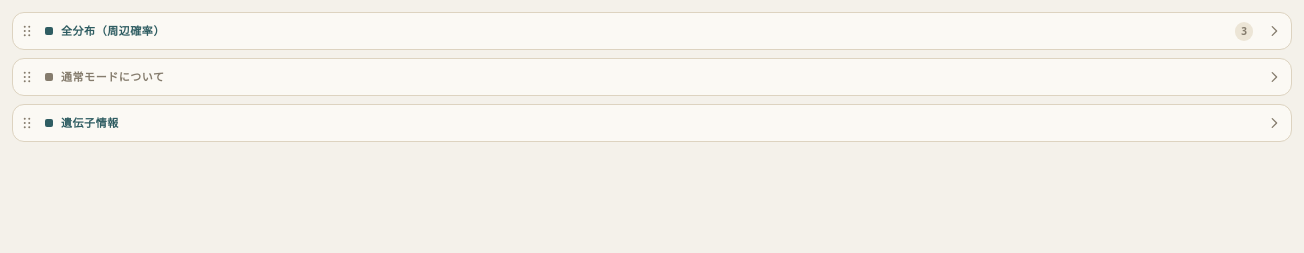
Test: ResultView AOC › AOC 行があるとき、説明はデフォルト非表示で、クリックで開く
Click the button "全分布（周辺確率） 3" at (113, 30), box [45,14,1291,48]
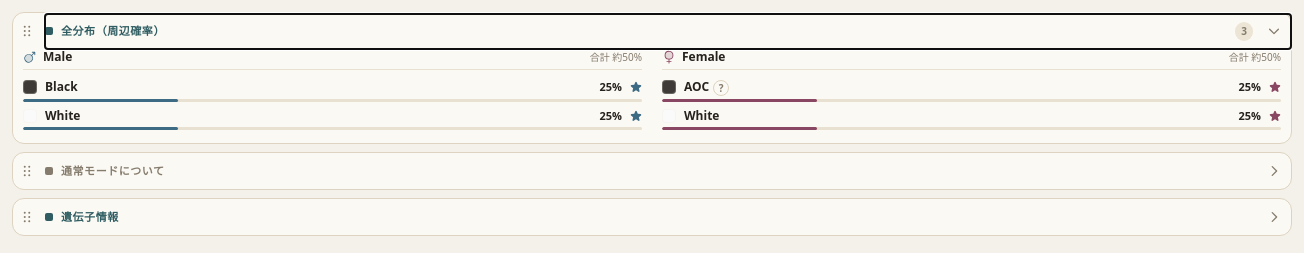
Click the button named "AOC の説明を開く" at (721, 88), box [713,80,729,96]
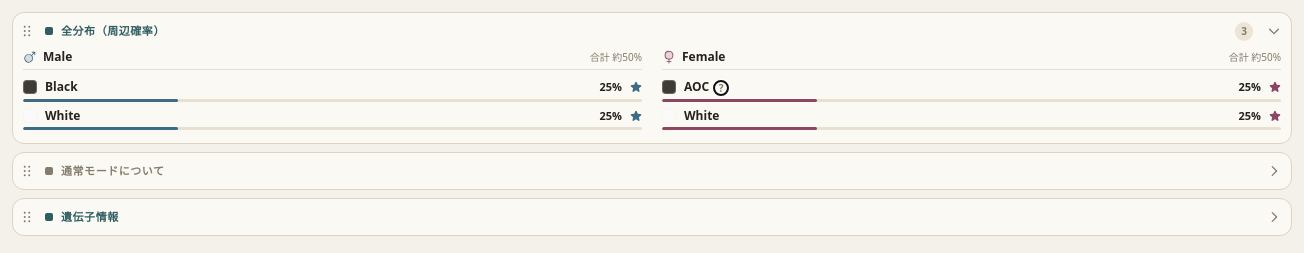
Check: the button named "AOC の説明を開く" is expanded, box [713,80,729,96]
